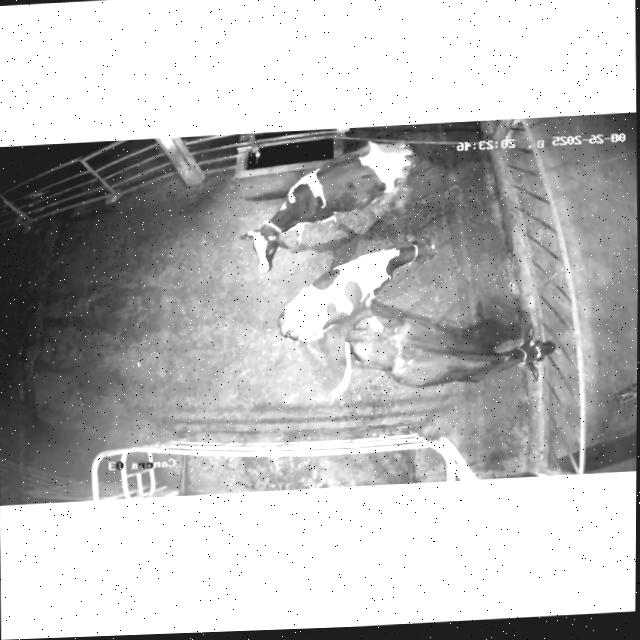stand: (243, 138, 435, 275), (241, 234, 445, 349)
